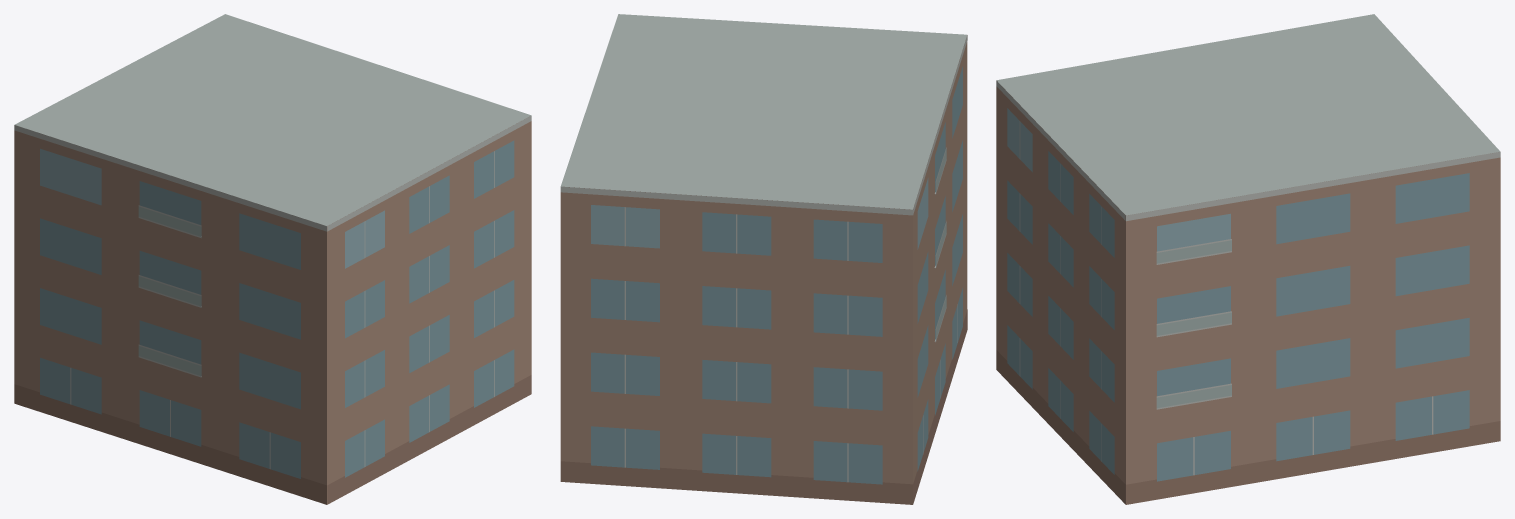
The model's file is survey-upis-33004956.glb.
3 views of the same model, side by side, from view 1: azimuth 30°, elevation 25°; view 2: azimuth 150°, elevation 25°; view 3: azimuth 270°, elevation 25° (orthographic). The views are drawn at different scales.
Visible parts, largest first — view 1: survey-upis-33004956.tmp; view 2: survey-upis-33004956.tmp; view 3: survey-upis-33004956.tmp.
Part boxes in pixels (x1,y1,x2,y2): survey-upis-33004956.tmp: (14, 14, 531, 504); survey-upis-33004956.tmp: (560, 14, 967, 504); survey-upis-33004956.tmp: (996, 14, 1500, 504).
Bounding box in the file's own units: 18.46 × 12.35 × 19.52.
